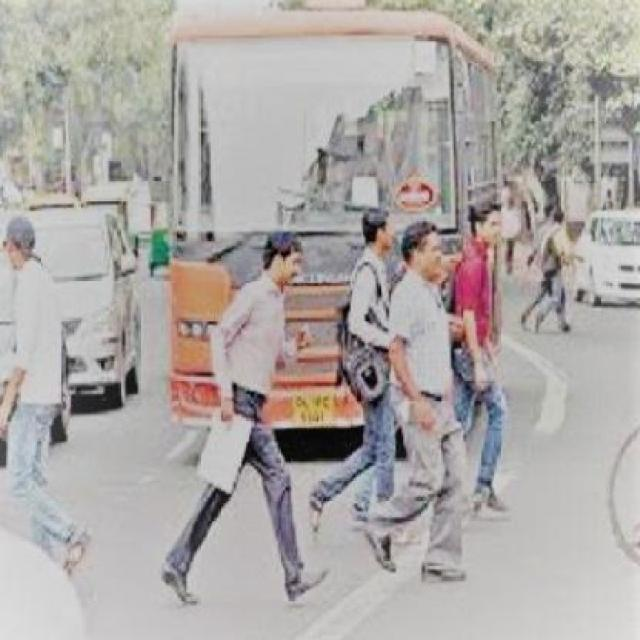Person: (192, 228, 322, 612), (369, 215, 473, 578), (0, 208, 91, 583), (312, 192, 405, 536), (453, 191, 515, 523)
